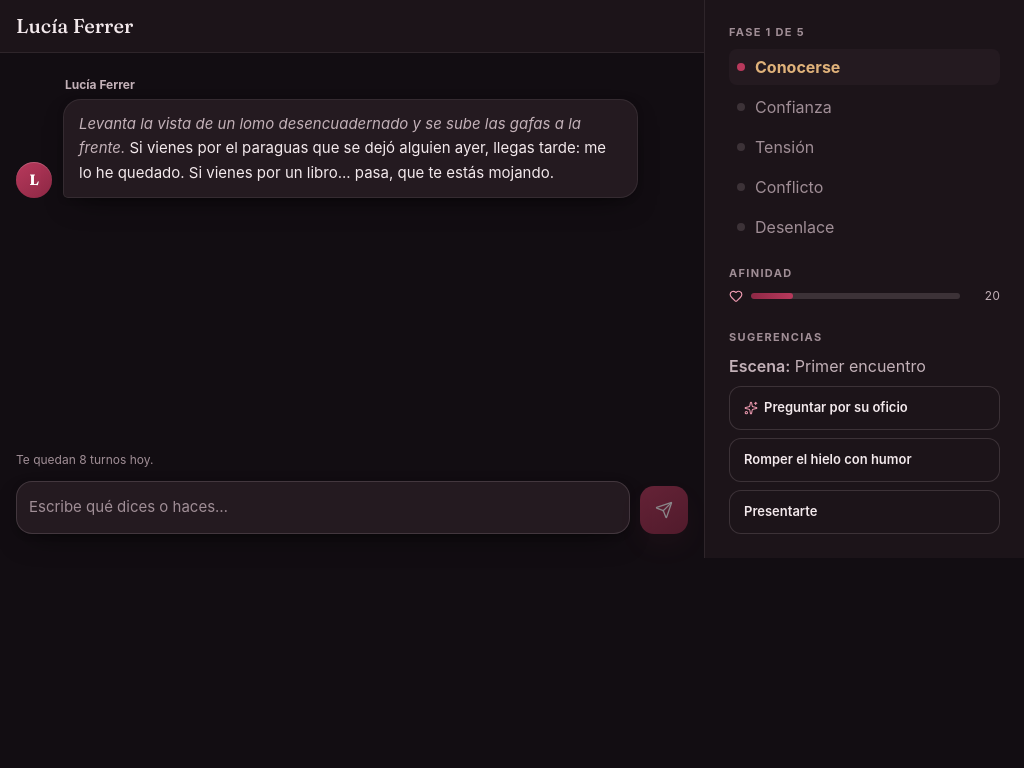
Test: Límite diario de turnos › con pocos turnos muestra cuántos quedan, y al recibir el 429 avisa y devuelve el borrador
Expected: the text "Te quedan 8 turnos hoy." is shown, [16,452,153,467]
Type "Hola otra vez" into the text box named "Mensaje" at (323, 507), box [29,488,617,526]
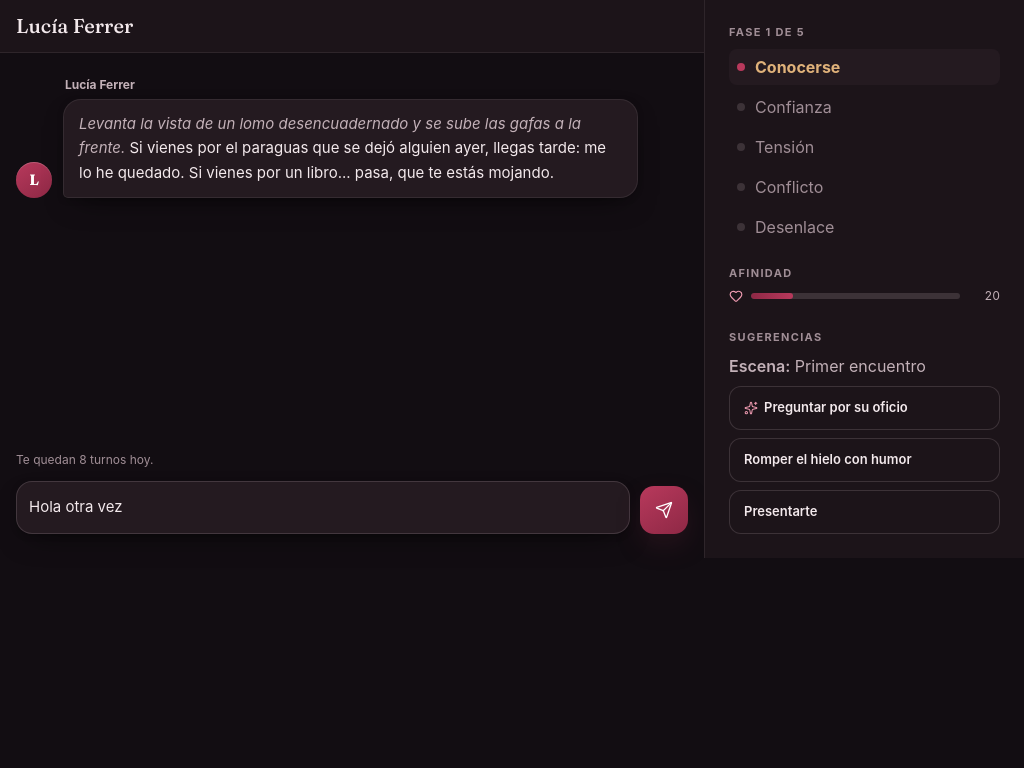
Press Enter
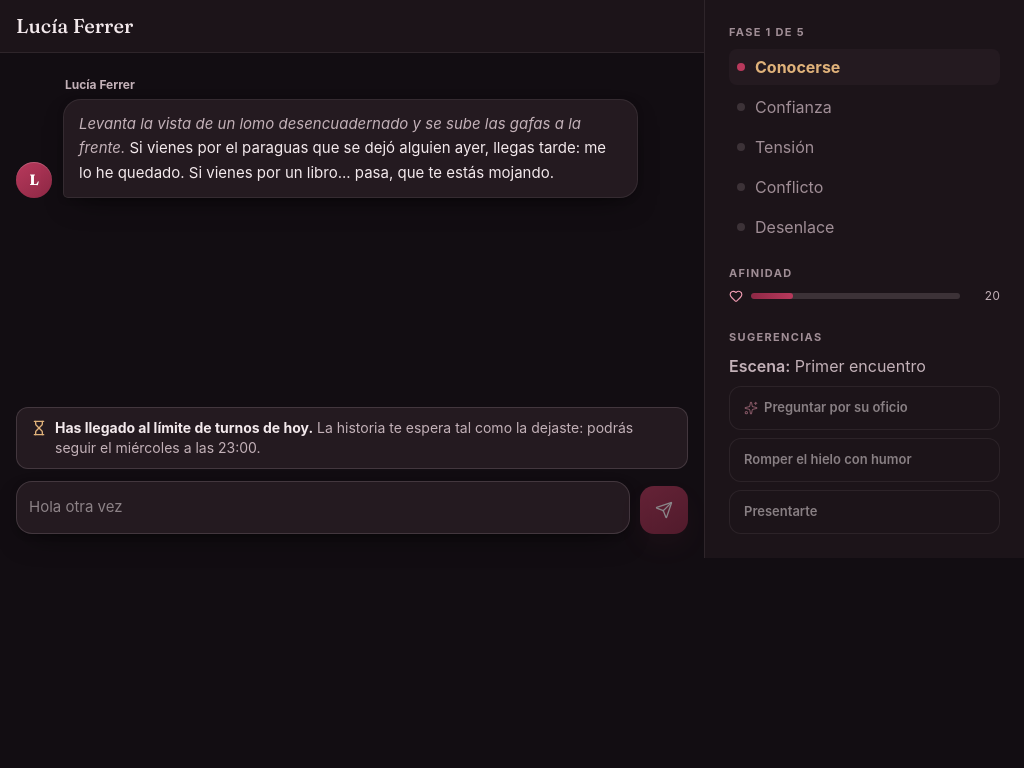
Result: the message shows "Has llegado al límite de turnos de hoy." at [55,419,313,436]
Result: the text box named "Mensaje" is disabled at [29,488,617,526]
